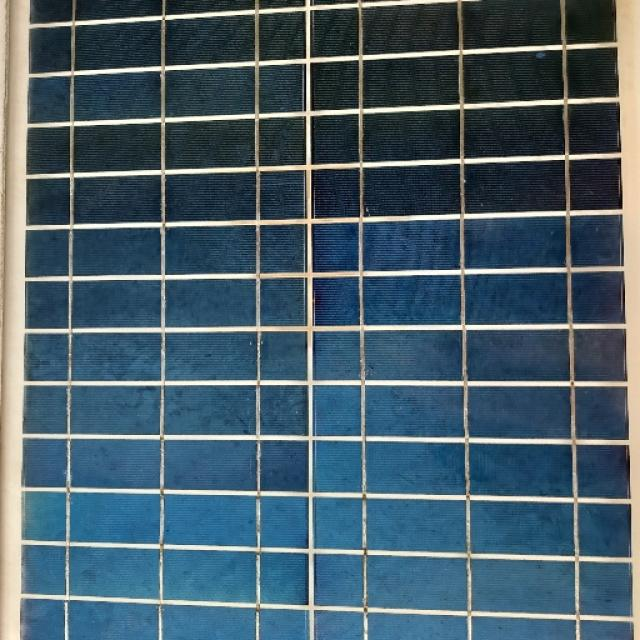Clean: (2, 26, 640, 640)
